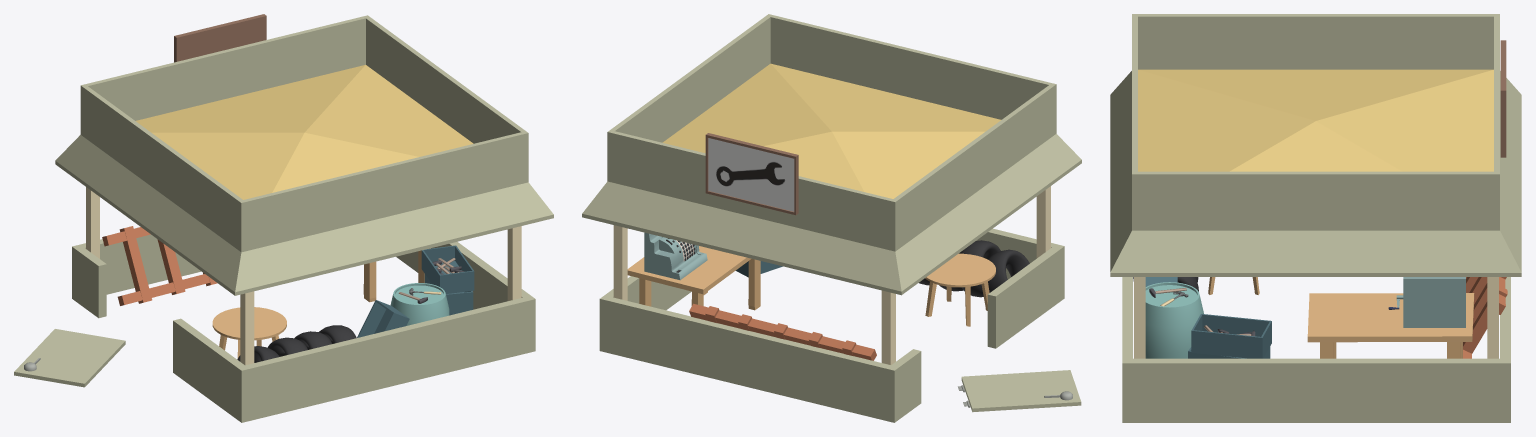
Rendered from kiosk 3.fbx.
3 views of the same model, side by side, from view 1: azimuth 30°, elevation 25°; view 2: azimuth 150°, elevation 25°; view 3: azimuth 270°, elevation 25° (orthographic). The views are drawn at different scales.
Visible parts, largest first — view 1: Cube.010, Cube.028, Cube.016; view 2: Cube.010, Cube.028, Cube.018, Cube.016; view 3: Cube.010, Cube.028, Cube.018.
Part boxes in pixels (x1,y1,x2,y2): Cube.010: (55, 14, 553, 422); Cube.028: (14, 226, 474, 387); Cube.016: (237, 325, 356, 362); Cube.010: (582, 14, 1081, 422); Cube.028: (627, 246, 1081, 412); Cube.018: (644, 232, 1072, 400); Cube.016: (919, 240, 1029, 297); Cube.010: (1110, 14, 1521, 422); Cube.028: (1145, 277, 1507, 358); Cube.018: (1149, 277, 1465, 336).
Bounding box in the file's own units: 652 × 350 × 474.
3 materials, 3 textured.
